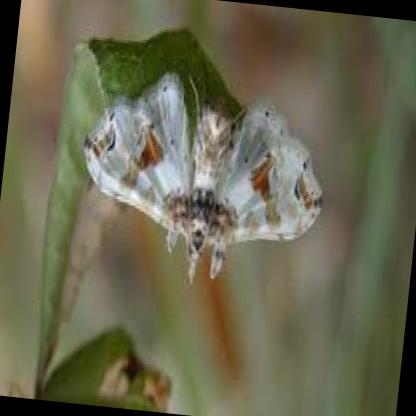leucinodes: (84, 74, 324, 284)
